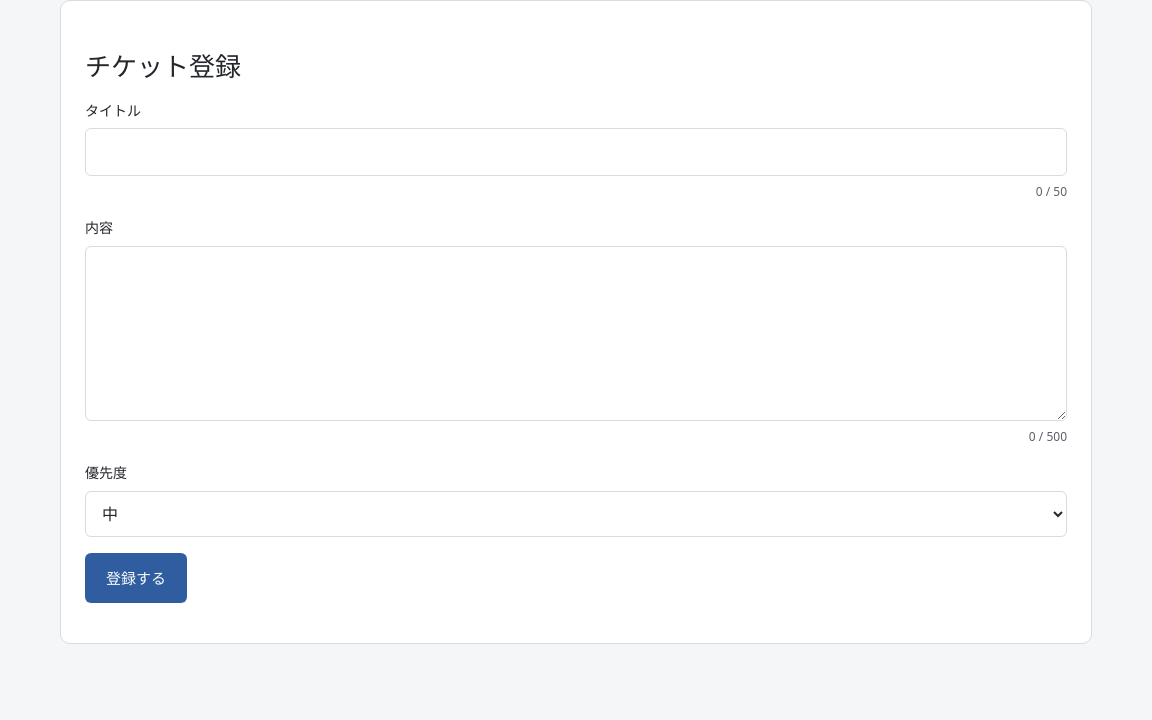
Test: TicketCreatePage › 未入力の場合はエラーメッセージを表示しAPIを呼ばない
Click the button "登録する" at (136, 578), box [85,553,187,603]
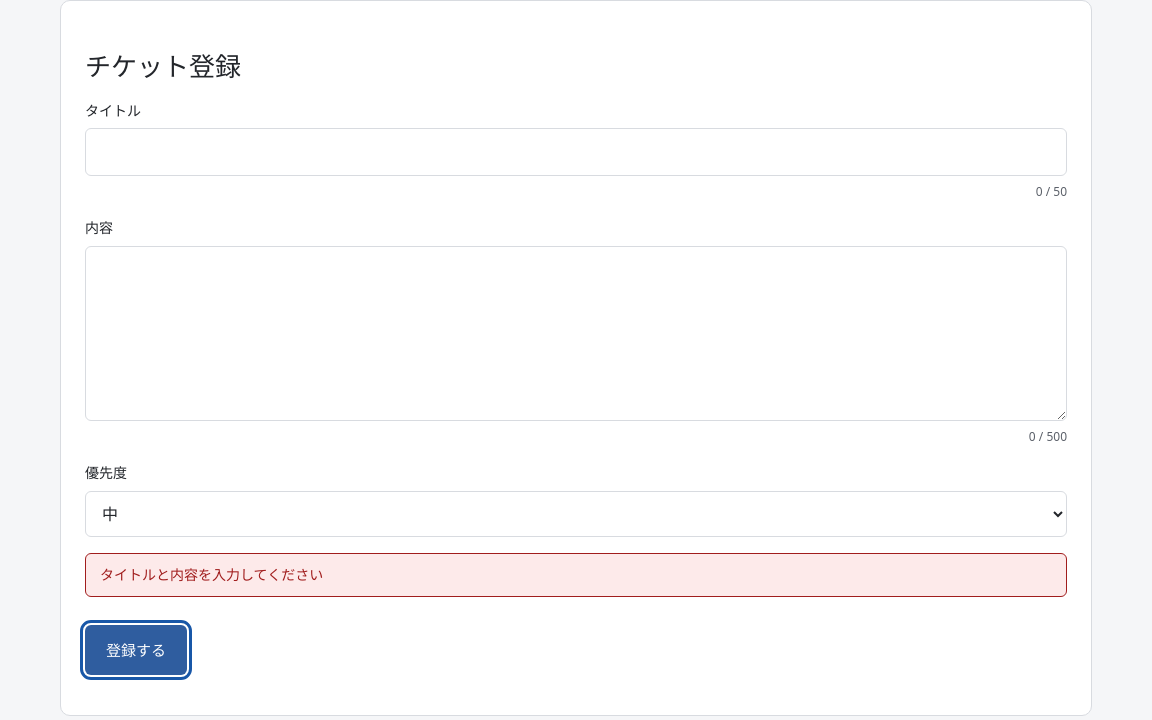
Check: the message reads "タイトルと内容を入力してください", box [100,565,323,584]
